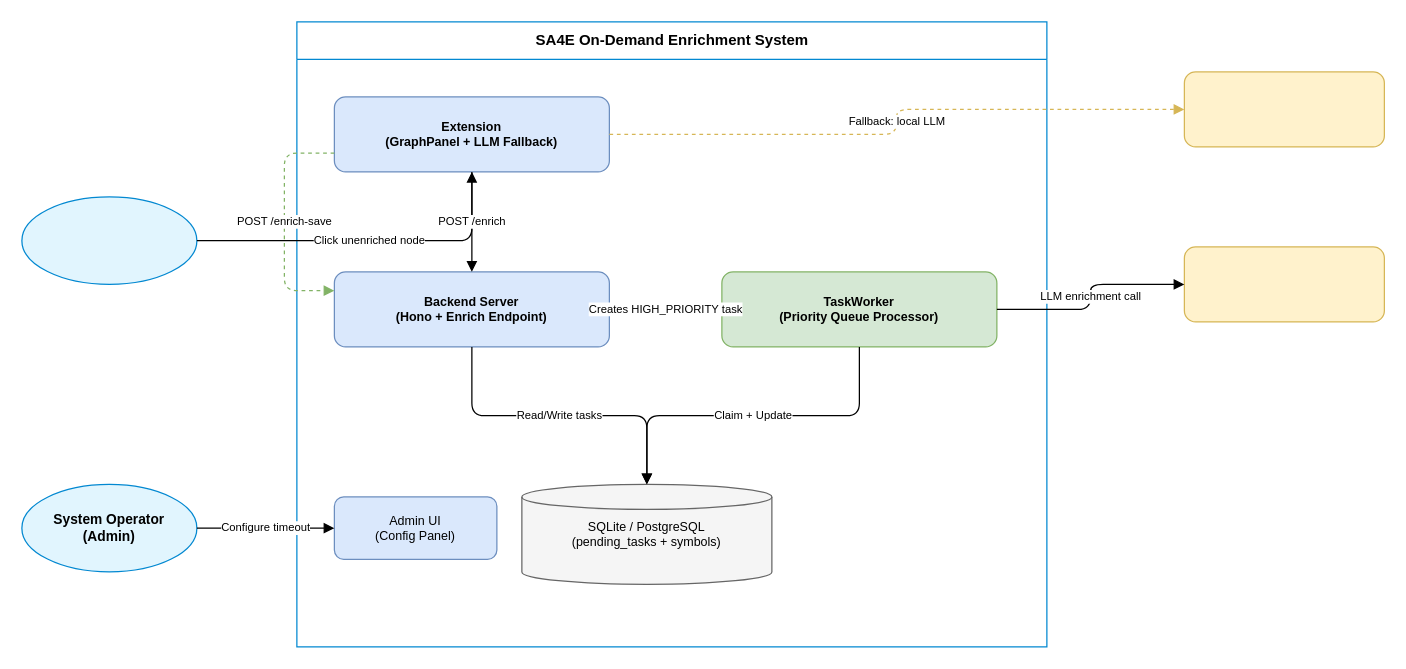
Some shapes in this 1406 by 669 pixel diagram are drawn without their labels. Here are the shapes that lost their labels. From the top down, the centre of each, then its label:
the point at 1283,109: Local LLM (Ollama:11434 / LMStudio:1234)
the point at 109,240: Developer (VS Code/Kiro)
the point at 1283,284: Backend LLM (Ollama / qwen3)
